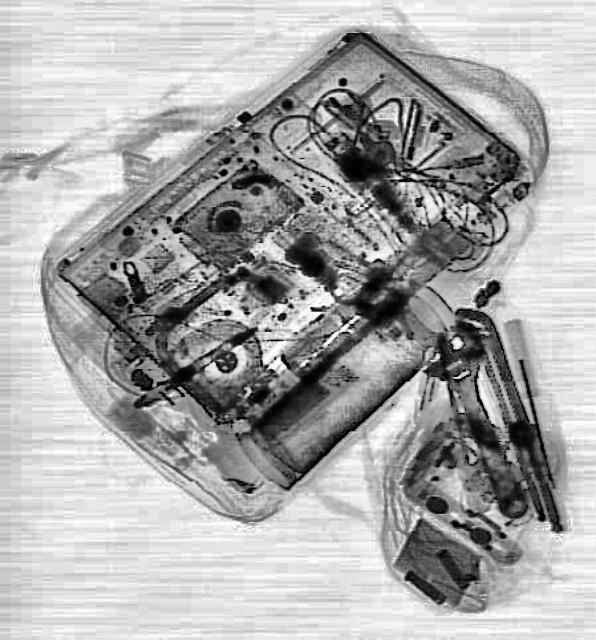Wrench: (409, 314, 547, 530)
